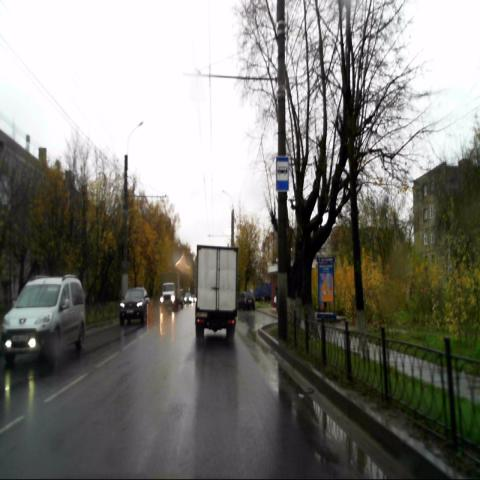5_16: (275, 157, 290, 191)
